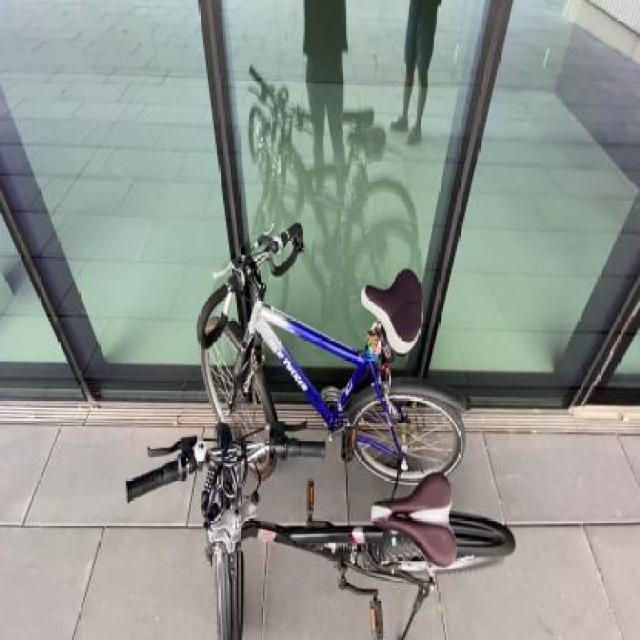bicycle: (126, 374, 526, 640), (200, 203, 491, 484)
